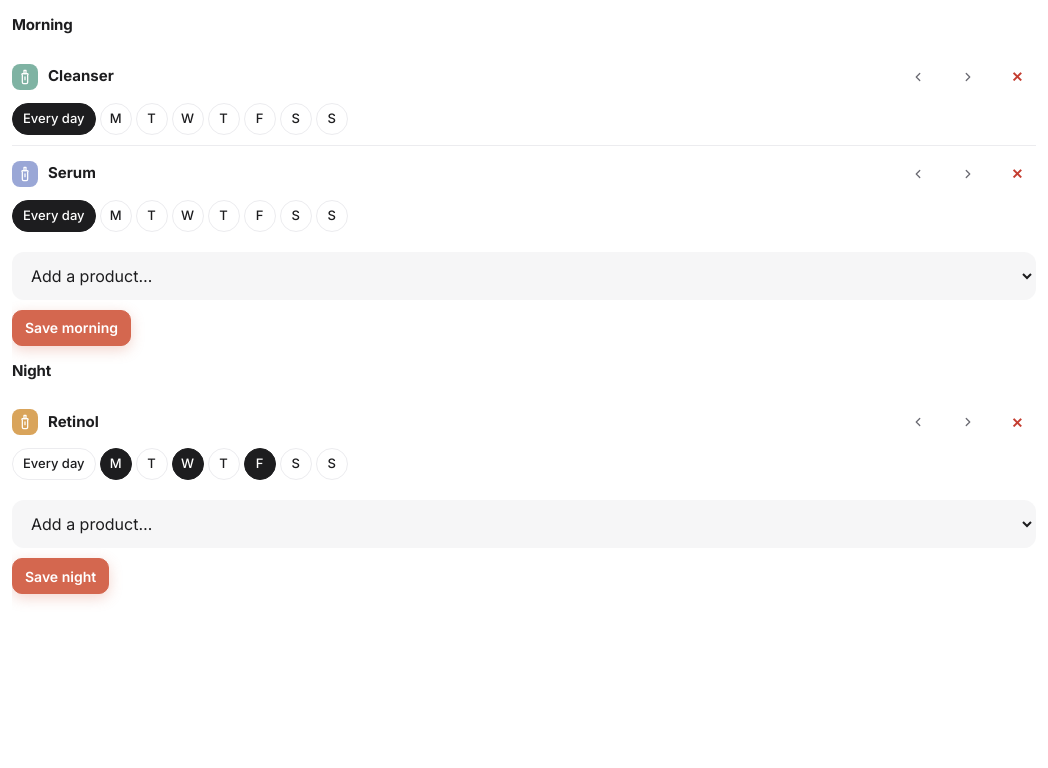
Test case: RoutineEditor › won't save a weekday schedule with no days
This screenshot has width=1048, height=768.
Check: the element "Night" is shown, box [12,360,1036,594]
What coordinates should you click on to do the following:
click the button named "Monday"
I would click on:
 (116, 464)
Its box is [100,448,132,480].
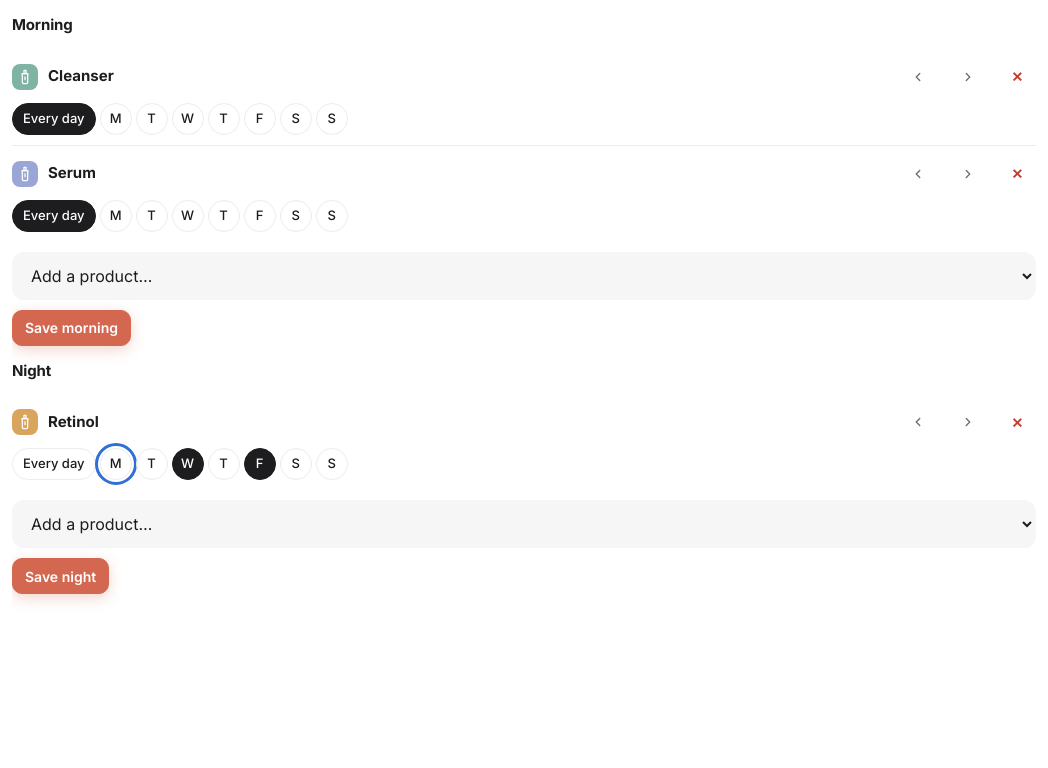
What coordinates should you click on to do the following:
click the button named "Wednesday"
I would click on:
 (188, 464)
Its box is [172,448,204,480].
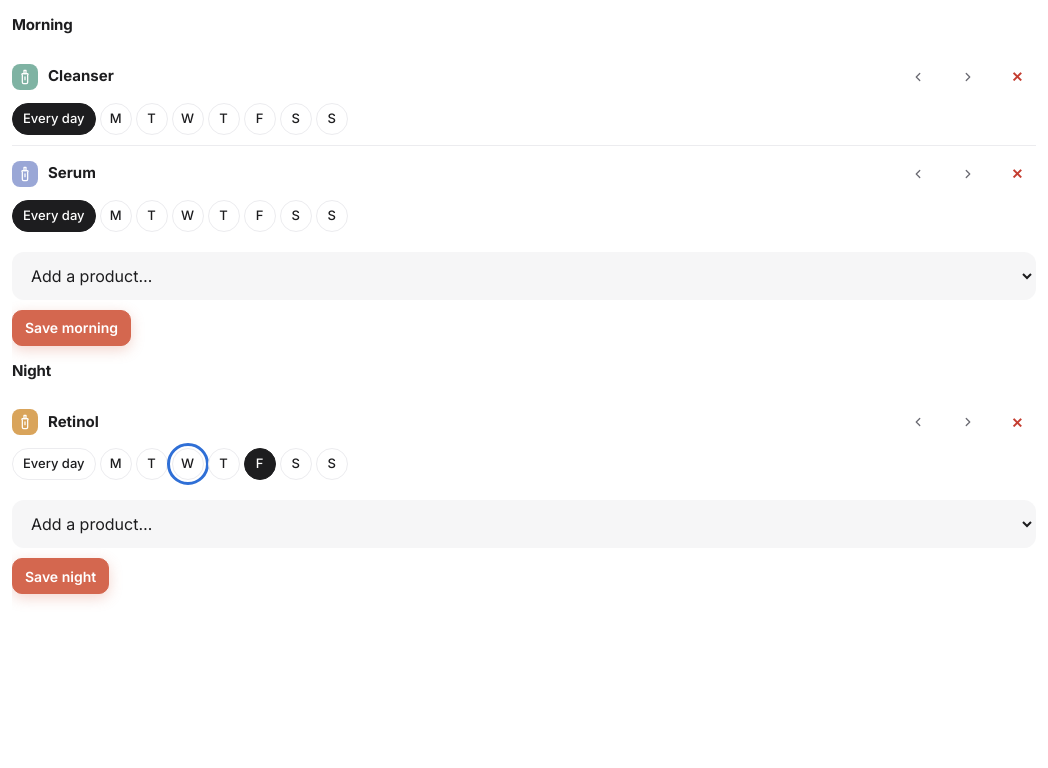
What coordinates should you click on to do the following:
click the button named "Friday"
I would click on:
 (260, 464)
Its box is [244,448,276,480].
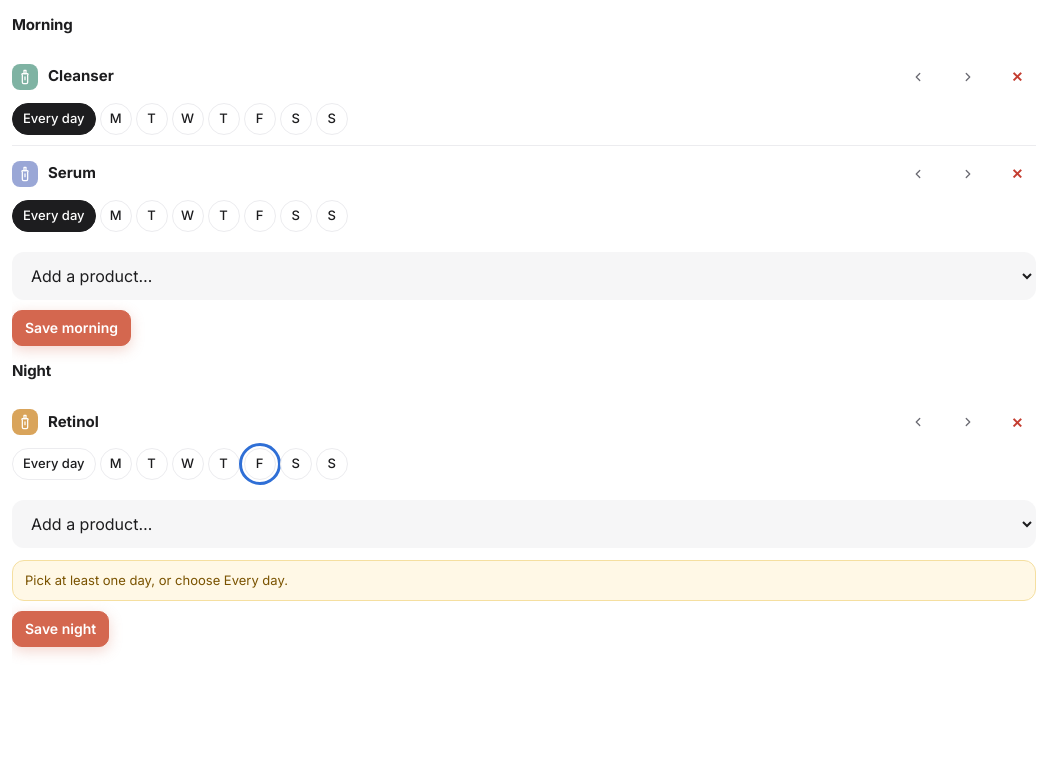
Check: the button "Save night" is disabled, box [12,611,109,647]
Check: the text "Pick at least one day, or choose Every day." is shown, box [12,560,1036,601]
